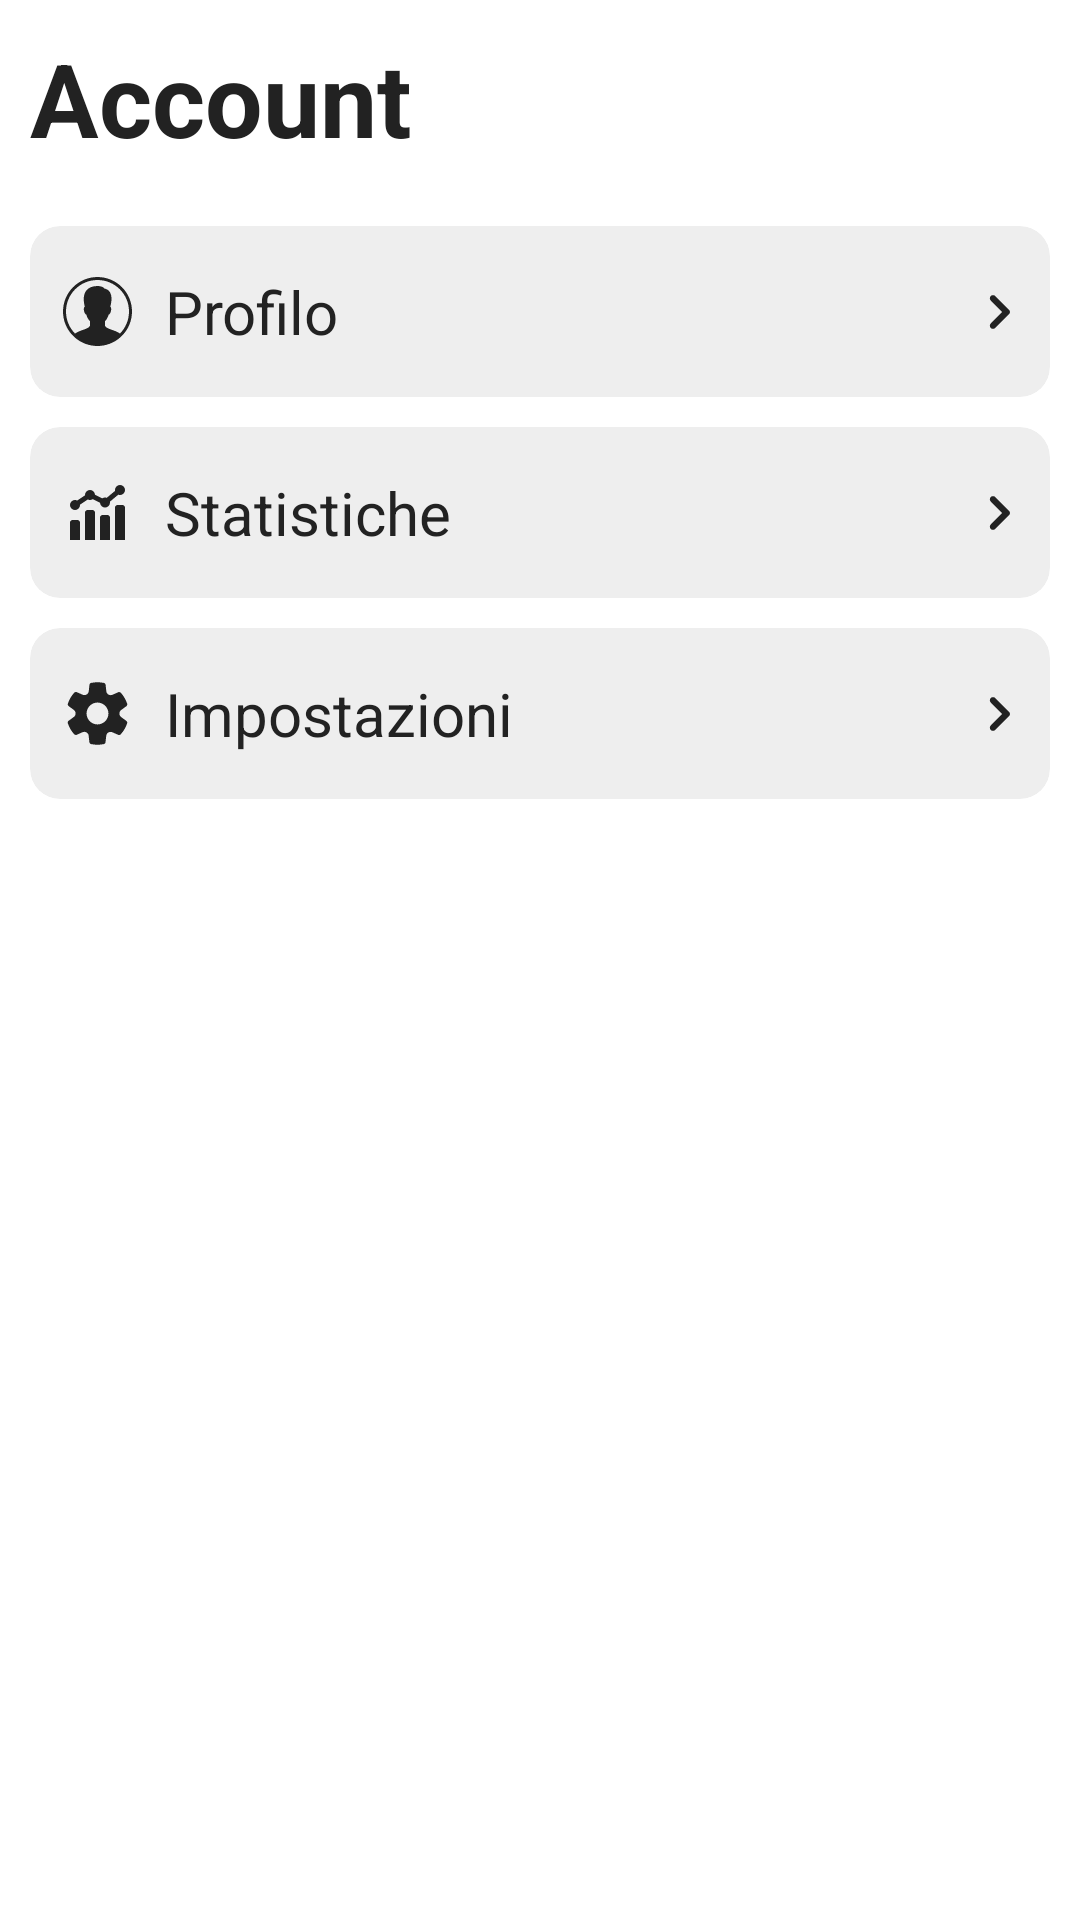

Locate icon controls on the screen. Image size 1080px×1920px, boxes as (x1, y1, x2, y2).
forward: (989, 295, 1010, 329), (989, 496, 1010, 530), (989, 697, 1010, 731)
settings: (67, 682, 128, 745)
statistics: (70, 485, 125, 540)
